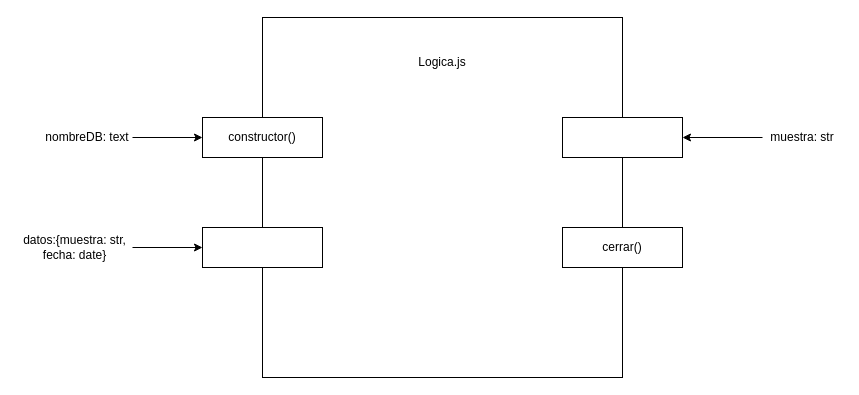
Some shapes in this 859 by 395 pixel diagram are drawn without their labels. Here are the shapes that lost their labels. From the top down, the centre of each, then its label:
the point at 622,137: buscar_muestra()
the point at 262,247: insertar_muestra()
